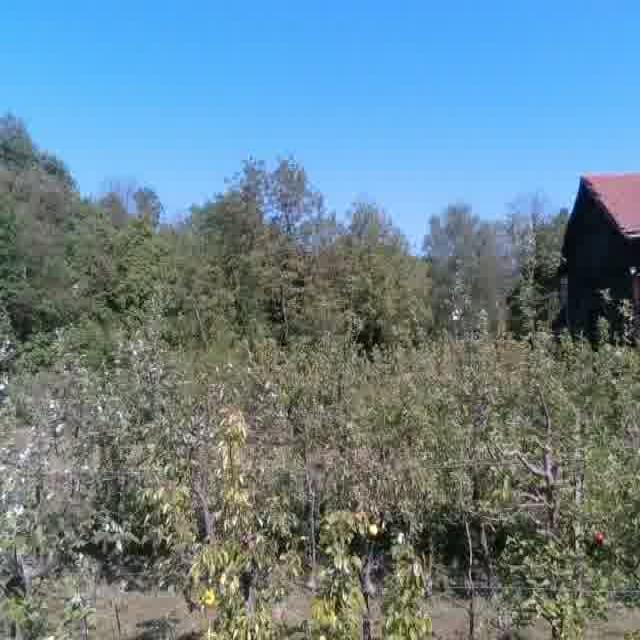red: (593, 533, 606, 546)
yellow: (368, 524, 379, 536)
